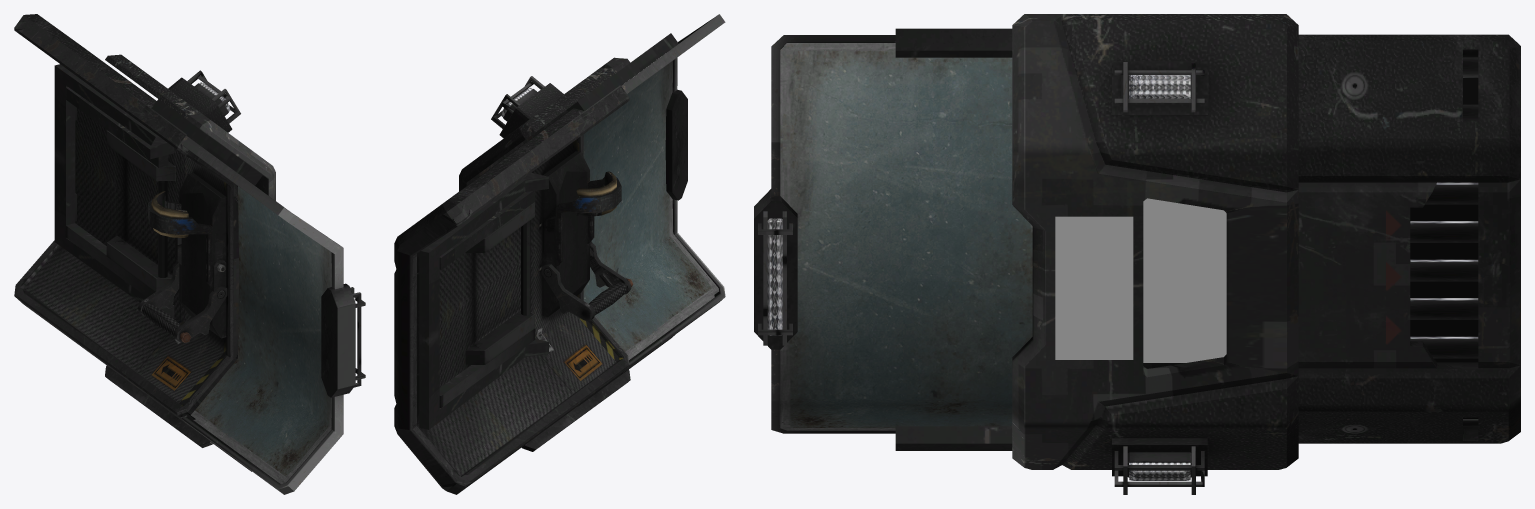
File: t6_wpn_shield_carry_world_LOD0.obj
3 views of the same model, side by side, from view 1: azimuth 30°, elevation 25°; view 2: azimuth 150°, elevation 25°; view 3: azimuth 270°, elevation 25° (orthographic). The views are drawn at different scales.
Parts seen in each view (by area): view 1: mtl_t6_wpn_shield, mtl_t6_wpn_shield_glass, mtl_t6_wpn_shield_camo1, mtl_t6_wpn_shield_camo3, mtl_t6_wpn_shield_nodecal; view 2: mtl_t6_wpn_shield, mtl_t6_wpn_shield_glass, mtl_t6_wpn_shield_camo1, mtl_t6_wpn_shield_nodecal, mtl_t6_wpn_shield_camo3; view 3: mtl_t6_wpn_shield_camo1, mtl_t6_wpn_shield_glass, mtl_t6_wpn_shield_camo2, mtl_t6_wpn_shield, mtl_player_icon_world, mtl_clan_tag_world.
Part boxes in pixels (box(x1,y1,x2,y2)): mtl_t6_wpn_shield: box(23, 64, 365, 494); mtl_t6_wpn_shield_glass: box(191, 186, 331, 483); mtl_t6_wpn_shield_camo1: box(14, 14, 275, 447); mtl_t6_wpn_shield_camo3: box(141, 204, 225, 342); mtl_t6_wpn_shield_nodecal: box(105, 175, 268, 445); mtl_t6_wpn_shield: box(417, 14, 725, 476); mtl_t6_wpn_shield_glass: box(583, 61, 718, 359); mtl_t6_wpn_shield_camo1: box(394, 57, 630, 494); mtl_t6_wpn_shield_nodecal: box(466, 110, 630, 449); mtl_t6_wpn_shield_camo3: box(580, 186, 633, 315); mtl_t6_wpn_shield_camo1: box(1012, 14, 1520, 469); mtl_t6_wpn_shield_glass: box(780, 43, 1032, 430); mtl_t6_wpn_shield_camo2: box(1071, 21, 1508, 469); mtl_t6_wpn_shield: box(754, 28, 1478, 494); mtl_player_icon_world: box(1143, 198, 1226, 362); mtl_clan_tag_world: box(1055, 216, 1133, 359).
Size of the model in its own units: 26.52 by 87.16 by 135.
